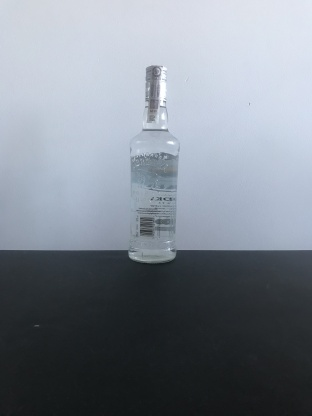nakretka: (142, 60, 169, 104)
